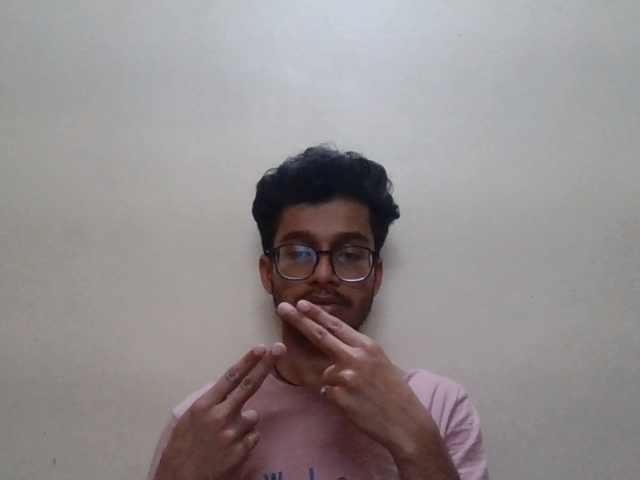my-name-is: (166, 300, 423, 460)
